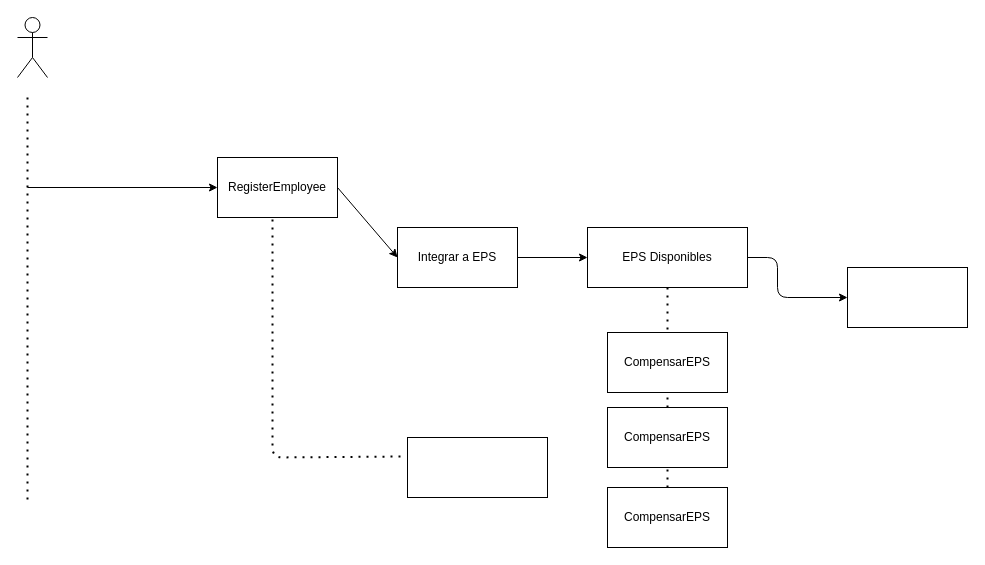
The diagram is 985 pixels wide and 565 high, and some of its shapes have lost their labels. Here are the shapes that lost their labels. From the top down, the centre of each, then its label:
At (x=32, y=47): "Actor".
At (x=907, y=297): "DeleteEmploye".
At (x=477, y=467): "IsEmployeeRegistered".
